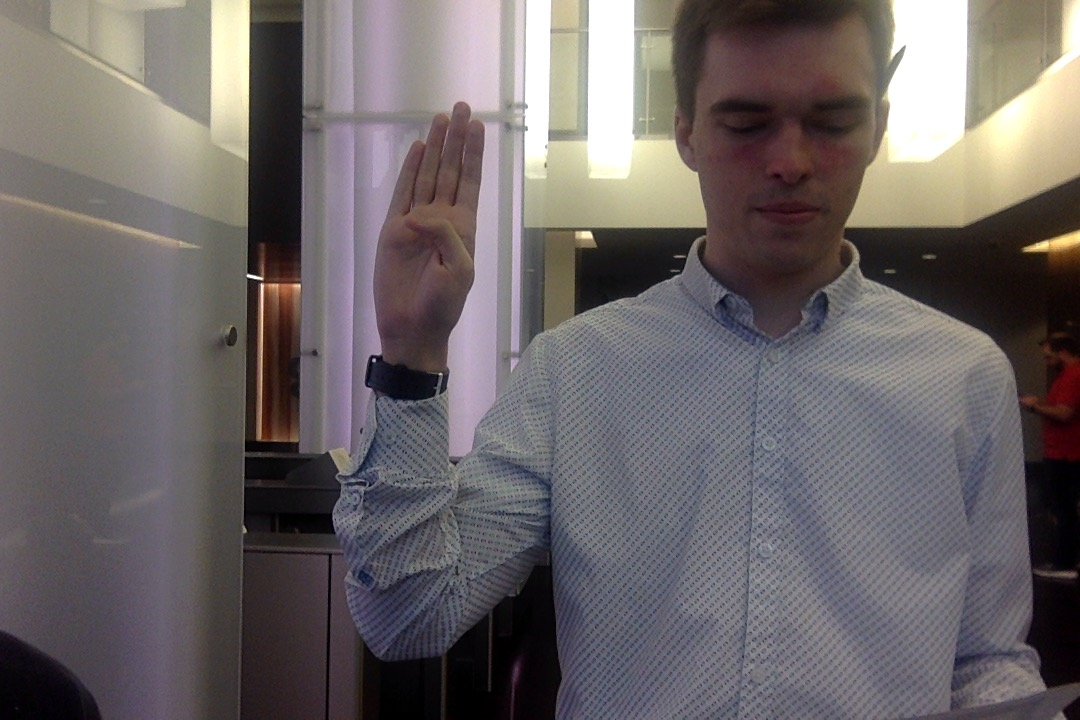b: (370, 98, 492, 356)
